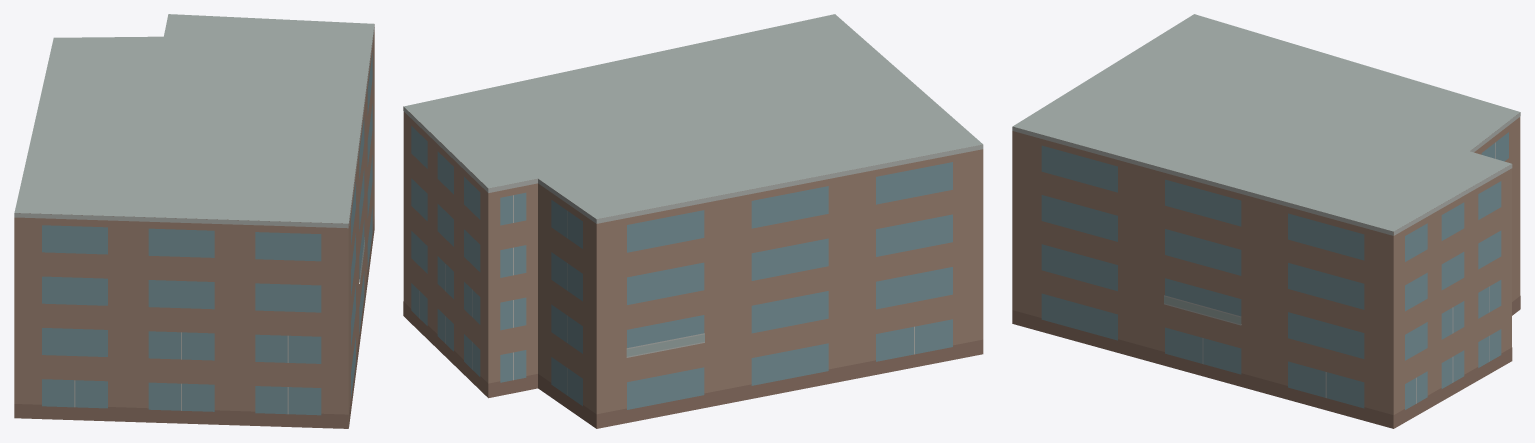
Rendered from survey-upis-32828568.glb.
3 views of the same model, side by side, from view 1: azimuth 30°, elevation 25°; view 2: azimuth 150°, elevation 25°; view 3: azimuth 270°, elevation 25° (orthographic). The views are drawn at different scales.
Parts seen in each view (by area): view 1: survey-upis-32828568.tmp; view 2: survey-upis-32828568.tmp; view 3: survey-upis-32828568.tmp.
Part boxes in pixels (<box>): survey-upis-32828568.tmp: <box>14,14,374,428</box>; survey-upis-32828568.tmp: <box>403,14,983,428</box>; survey-upis-32828568.tmp: <box>1012,14,1520,428</box>.
Bounding box in the file's own units: 26.03 × 11 × 25.68.
